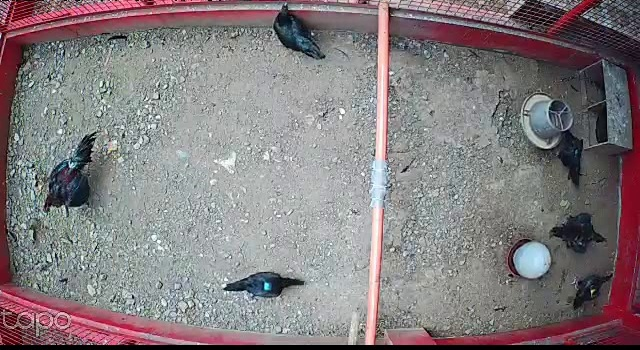Chicken: (271, 2, 329, 61), (546, 206, 613, 256), (220, 265, 306, 300), (552, 127, 587, 190), (567, 268, 614, 313)
Rooster: (42, 126, 101, 217)
Saddle_Color_Blue: (263, 278, 273, 292)
Saddle_Color_Yellow: (590, 285, 596, 299)
